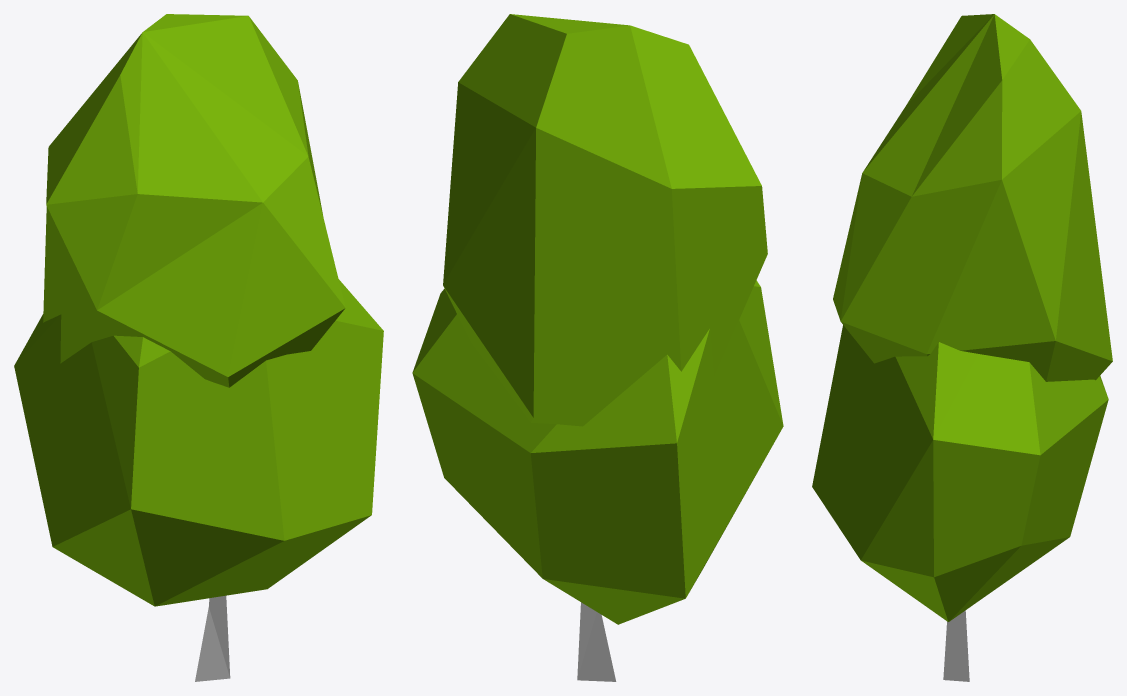
File: U_Berzas.fbx
The picture shows the model from 3 angles, left to right: view 1: azimuth 30°, elevation 25°; view 2: azimuth 150°, elevation 25°; view 3: azimuth 270°, elevation 25°; orthographic projection. The views are drawn at different scales.
Parts seen in each view (by area): view 1: Beržas; view 2: Beržas; view 3: Beržas.
Part boxes in pixels (<box>): Beržas: <box>14,14,383,681</box>; Beržas: <box>412,14,783,681</box>; Beržas: <box>812,14,1112,681</box>.
Size of the model in its own units: 0.7752 by 1.49 by 0.6355.
